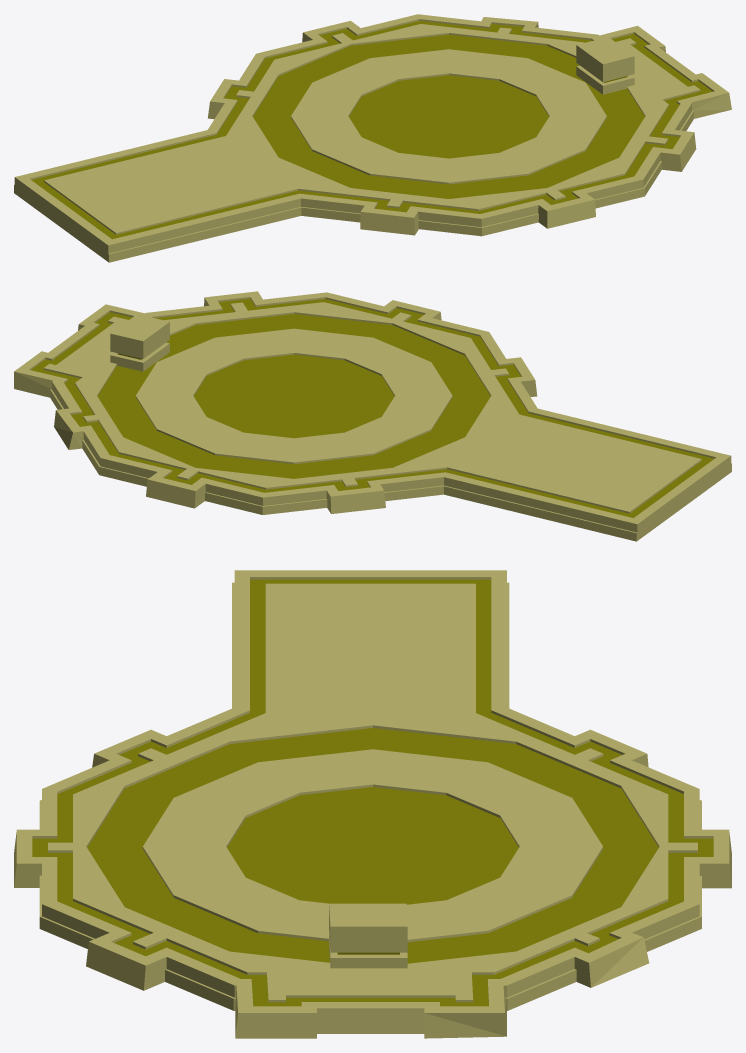
Rendered from Prop_Jungle_Temple_Altar_Platform_01.FBX.
3 views of the same model, one above another, from view 1: azimuth 30°, elevation 25°; view 2: azimuth 150°, elevation 25°; view 3: azimuth 270°, elevation 25° (orthographic). The views are drawn at different scales.
Parts seen in each view (by area): view 1: Prop_Jungle_Temple_Altar_Platform_01; view 2: Prop_Jungle_Temple_Altar_Platform_01; view 3: Prop_Jungle_Temple_Altar_Platform_01.
Boxes of the visible parts, box(x1,y1,x2,y2) form: Prop_Jungle_Temple_Altar_Platform_01: box(14, 14, 731, 262); Prop_Jungle_Temple_Altar_Platform_01: box(14, 291, 731, 541); Prop_Jungle_Temple_Altar_Platform_01: box(14, 570, 731, 1038).
Bounding box in the file's own units: 18429 × 1281 × 12600.
